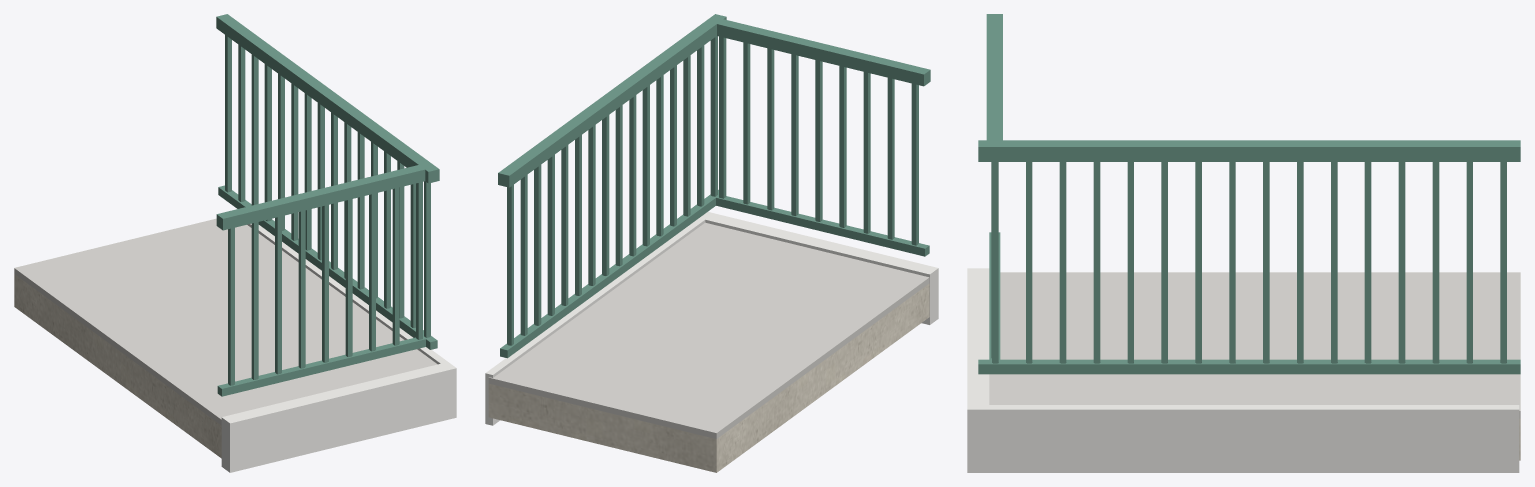
File: gallery_landing.glb
The picture shows the model from 3 angles, left to right: view 1: azimuth 30°, elevation 25°; view 2: azimuth 150°, elevation 25°; view 3: azimuth 270°, elevation 25°; orthographic projection. The views are drawn at different scales.
Parts seen in each view (by area): view 1: gallery_landing_post, gallery_landing_concrete, gallery_landing_trim, gallery_landing_plaster; view 2: gallery_landing_concrete, gallery_landing_post, gallery_landing_plaster, gallery_landing_trim; view 3: gallery_landing_concrete, gallery_landing_post, gallery_landing_trim.
Part boxes in pixels (left/top/right/bottom): gallery_landing_post: left=216, top=14, right=439, bottom=396; gallery_landing_concrete: left=14, top=218, right=437, bottom=425; gallery_landing_trim: left=221, top=223, right=456, bottom=472; gallery_landing_plaster: left=14, top=274, right=221, bottom=458; gallery_landing_concrete: left=488, top=222, right=929, bottom=438; gallery_landing_post: left=498, top=14, right=930, bottom=358; gallery_landing_plaster: left=488, top=283, right=929, bottom=472; gallery_landing_trim: left=485, top=212, right=938, bottom=425; gallery_landing_concrete: left=989, top=272, right=1520, bottom=418; gallery_landing_post: left=978, top=14, right=1520, bottom=374; gallery_landing_trim: left=967, top=268, right=1519, bottom=472.
Bounding box in the file's own units: 1.22 × 1.28 × 2.02.
4 materials, 1 textured.
